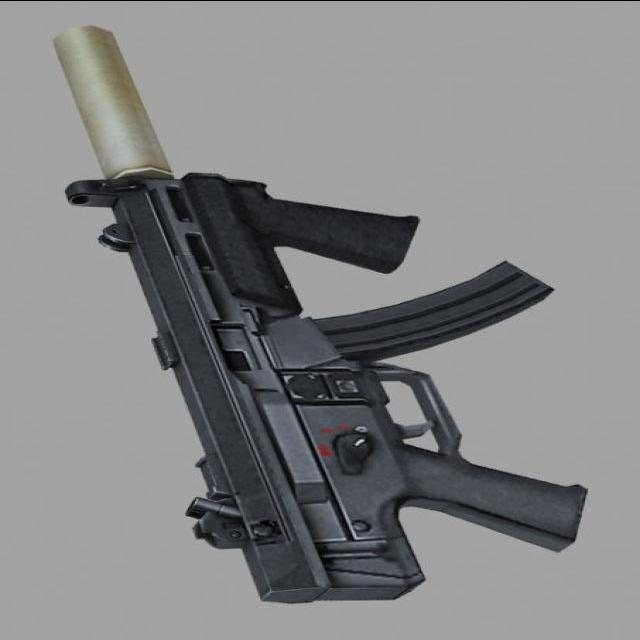smg: (13, 18, 626, 587)
